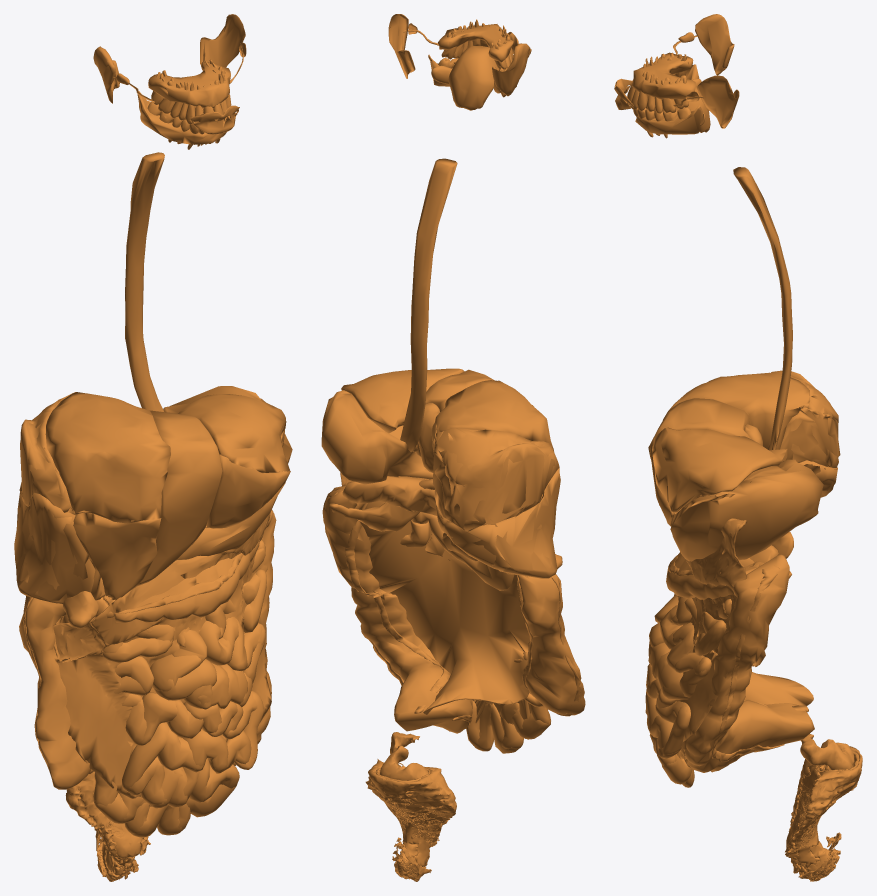
The model's file is digestive.glb.
The picture shows the model from 3 angles, left to right: view 1: azimuth 30°, elevation 25°; view 2: azimuth 150°, elevation 25°; view 3: azimuth 270°, elevation 25°; orthographic projection. The views are drawn at different scales.
Parts seen in each view (by area): view 1: W_ZA4AEB584D, W_FJ2824, W_FJ2820, W_FJ2566, W_FJ2818, W_FJ2563, W_FJ2821, W_FJ2822, W_FJ2572, W_FJ2409, W_FJ2819, W_FJ2564 (+35 smaller); view 2: W_FJ3398, W_FJ2567, W_FJ1858, W_FJ2564, W_FJ2566, W_FJ2563, W_FJ2823, W_FJ2824, WU_mesorectum, W_FJ2822, W_FJ2818, W_FJ2409 (+16 smaller); view 3: W_FJ2567, W_FJ2564, W_FJ2818, W_ZA4AEB584D, W_FJ2824, W_FJ2563, WU_mesorectum, W_FJ2820, W_FJ2823, W_FJ1252, W_FJ3398, W_FJ1858 (+16 smaller).
Boxes of the visible parts, left/top/right/bottom form: W_ZA4AEB584D: left=53, top=512, right=271, bottom=806; W_FJ2824: left=45, top=392, right=170, bottom=523; W_FJ2820: left=136, top=410, right=222, bottom=586; W_FJ2566: left=19, top=596, right=91, bottom=789; W_FJ2818: left=163, top=394, right=289, bottom=472; W_FJ2563: left=125, top=152, right=164, bottom=411; W_FJ2821: left=73, top=512, right=161, bottom=600; W_FJ2822: left=14, top=491, right=105, bottom=600; W_FJ2572: left=93, top=522, right=268, bottom=622; W_FJ2409: left=14, top=491, right=104, bottom=603; W_FJ2819: left=206, top=454, right=290, bottom=528; W_FJ2564: left=170, top=386, right=292, bottom=560; W_FJ3398: left=355, top=477, right=529, bottom=715; W_FJ2567: left=322, top=486, right=472, bottom=733; W_FJ1858: left=433, top=428, right=559, bottom=531; W_FJ2564: left=321, top=390, right=433, bottom=484; W_FJ2566: left=517, top=574, right=585, bottom=715; W_FJ2563: left=400, top=158, right=457, bottom=451; W_FJ2823: left=434, top=428, right=558, bottom=531; W_FJ2824: left=431, top=380, right=552, bottom=454; WU_mesorectum: left=365, top=759, right=456, bottom=847; W_FJ2822: left=439, top=467, right=560, bottom=576; W_FJ2818: left=341, top=368, right=464, bottom=433; W_FJ2409: left=436, top=468, right=560, bottom=578; W_FJ2567: left=678, top=554, right=814, bottom=772; W_FJ2564: left=670, top=459, right=823, bottom=561; W_FJ2818: left=652, top=427, right=786, bottom=514; W_ZA4AEB584D: left=676, top=518, right=746, bottom=741; W_FJ2824: left=663, top=372, right=809, bottom=449; W_FJ2563: left=733, top=167, right=792, bottom=450; WU_mesorectum: left=785, top=746, right=862, bottom=857; W_FJ2820: left=648, top=398, right=750, bottom=458; W_FJ2823: left=779, top=371, right=840, bottom=467; W_FJ1252: left=631, top=52, right=695, bottom=99; W_FJ3398: left=739, top=558, right=813, bottom=706; W_FJ1858: left=771, top=370, right=838, bottom=467.
Bounding box in the file's own units: 0.225 × 0.7424 × 0.2.
